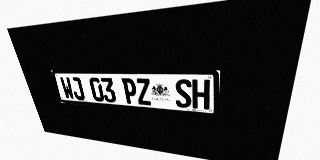0: (88, 77, 105, 102)
3: (100, 78, 117, 103)
H: (192, 79, 210, 110)
J: (69, 77, 85, 100)
P: (121, 78, 138, 104)
S: (175, 79, 192, 108)
W: (59, 77, 75, 100)
Z: (135, 78, 152, 105)
